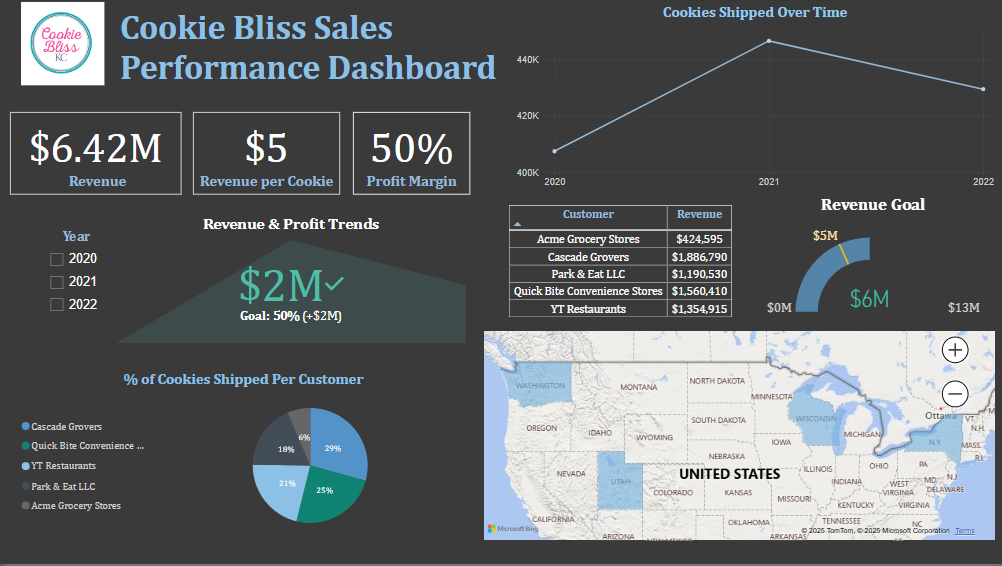

Layout of this report page (visuals, bound fields, positions):
{"tool":"powerbi","page":{"name":"Page 1","canvas":[1280,720],"ordinal":0},"visuals":[{"type":"lineChart","title":" Cookies Shipped Over Time","fields":{"Y":["Sum(Orders.Cookies Shipped)"],"Category":["Orders.Order Year"]},"box":[650.8,6.2,618,243],"z":0},{"type":"card","fields":{"Values":["Sum(Orders.Revenue)"]},"box":[12.4,144.5,218.1,104.6],"z":1000},{"type":"filledMap","fields":{"Category":["Customers.State"]},"box":[610,417.6,658.8,275.8],"z":2000},{"type":"tableEx","fields":{"Values":["Customers.Customer Name","Sum(Orders.Revenue)"]},"box":[640.2,258,310.3,159.6],"z":3000},{"type":"textbox","box":[147.2,6.2,503.6,110],"z":4000},{"type":"card","fields":{"Values":["Customers.Revenue per Cookie"]},"box":[245.6,144.5,187.1,104.6],"z":5000},{"type":"kpi","title":"Revenue & Profit Trends","fields":{"Indicator":["Sum(Orders.Revenue)"],"TrendLine":["Orders.Order Year"],"Goal":["Customers.Profit Margin"]},"box":[142.8,274.9,454.9,169.4],"z":6000},{"type":"slicer","title":"Year","fields":{"Values":["Orders.Order Year"]},"box":[50.5,291.7,92.2,125.9],"z":7000},{"type":"card","fields":{"Values":["Customers.Profit Margin"]},"box":[448.7,144.5,149,104.6],"z":8000},{"type":"pieChart","title":"% of Cookies Shipped Per Customer ","fields":{"Y":["CountNonNull(Orders.Cookies Shipped)"],"Category":["Customers.Customer Name"]},"box":[22.2,472.6,575.5,220.8],"z":9000},{"type":"gauge","title":"Revenue Goal","fields":{"TargetValue":["Customers.RevenueGoal"],"Y":["Sum(Orders.Revenue)"]},"box":[950.5,249.2,318.3,159.6],"z":10000},{"type":"image","box":[12.4,0,134.8,116.2],"z":11000}]}

Visuals, with their boxes in screenshot pixels (x1, y1, x2, y2), scaled from the page's 1280x720 canvas onto the 1002x566 screenshot:
" Cookies Shipped Over Time" lineChart: {"left": 509, "top": 5, "right": 993, "bottom": 196}
card - Sum(Orders.Revenue): {"left": 10, "top": 114, "right": 180, "bottom": 196}
filledMap - Customers.State: {"left": 478, "top": 328, "right": 993, "bottom": 545}
tableEx - Customers.Customer Name x Sum(Orders.Revenue): {"left": 501, "top": 203, "right": 744, "bottom": 328}
textbox: {"left": 115, "top": 5, "right": 509, "bottom": 91}
card - Customers.Revenue per Cookie: {"left": 192, "top": 114, "right": 339, "bottom": 196}
"Revenue & Profit Trends" kpi: {"left": 112, "top": 216, "right": 468, "bottom": 349}
"Year" slicer: {"left": 40, "top": 229, "right": 112, "bottom": 328}
card - Customers.Profit Margin: {"left": 351, "top": 114, "right": 468, "bottom": 196}
"% of Cookies Shipped Per Customer " pieChart: {"left": 17, "top": 372, "right": 468, "bottom": 545}
"Revenue Goal" gauge: {"left": 744, "top": 196, "right": 993, "bottom": 321}
image: {"left": 10, "top": 0, "right": 115, "bottom": 91}
